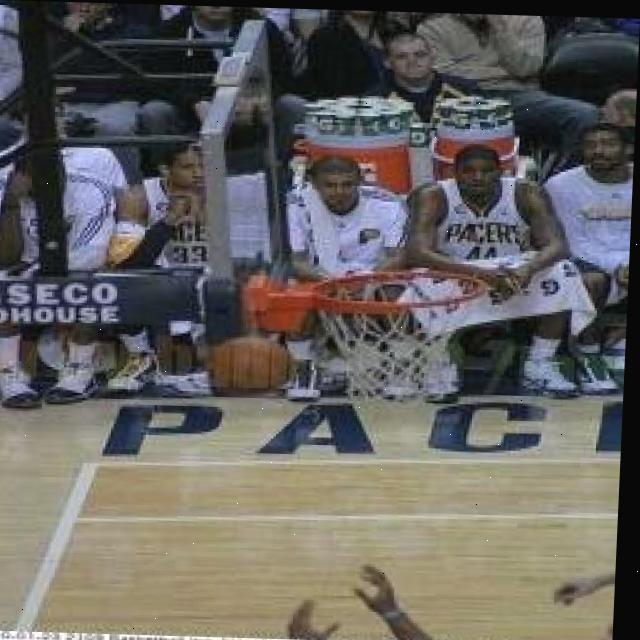basketball: (208, 332, 291, 402)
hoop: (305, 255, 492, 410)
